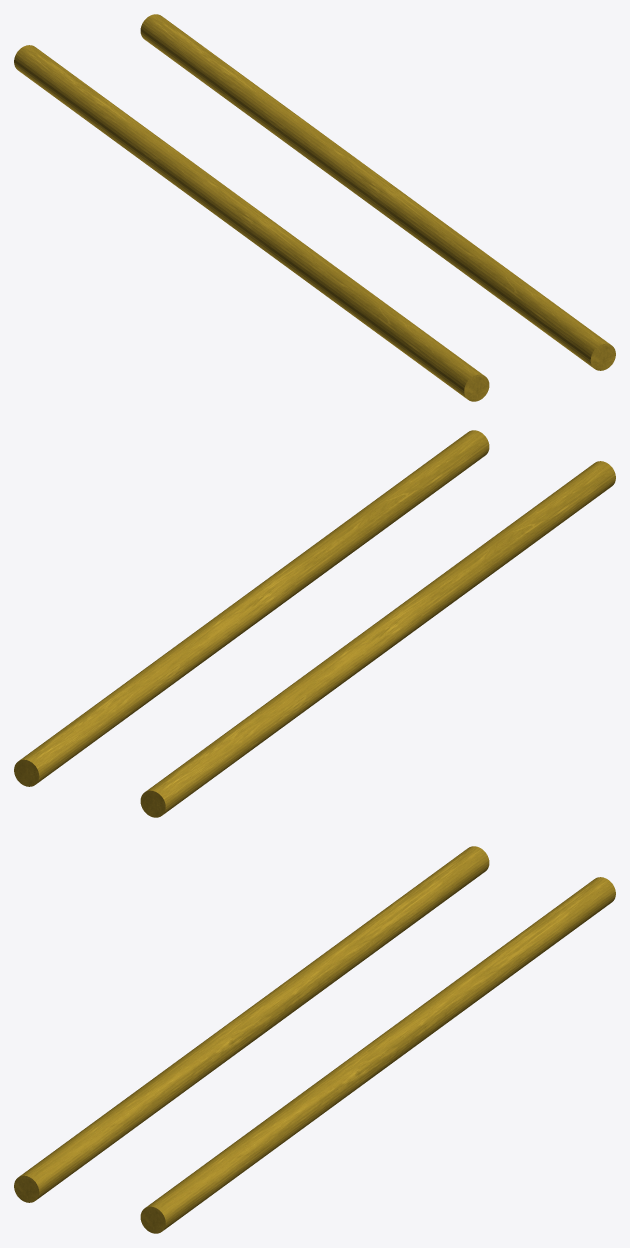
File: small path new.fbx
3 views of the same model, one above another, from view 1: azimuth 30°, elevation 25°; view 2: azimuth 150°, elevation 25°; view 3: azimuth 330°, elevation 25° (orthographic).
Visible parts, largest first — view 1: small; view 2: small; view 3: small.
Part boxes in pixels (x1,y1,x2,y2): small: (14, 14, 615, 401); small: (14, 430, 615, 817); small: (14, 846, 615, 1233).
Bounding box in the file's own units: 171 × 28.53 × 879.
Materials: 1 (1 with a texture image).
